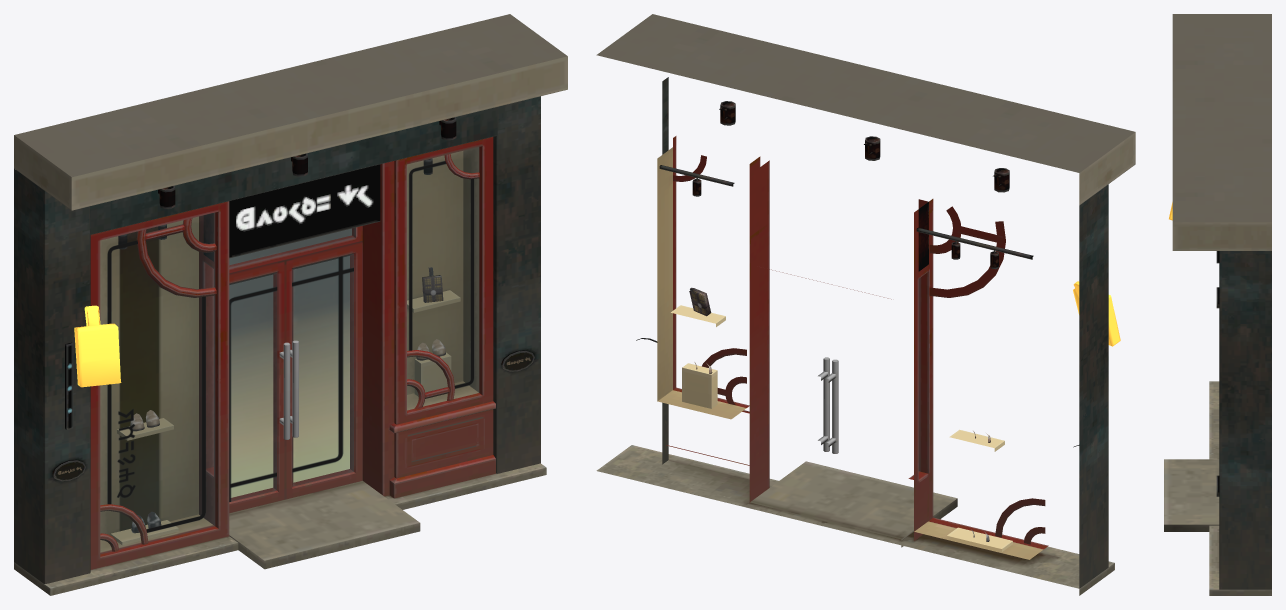
File: t1_b_boutique2_b.glb
The picture shows the model from 3 angles, left to right: view 1: azimuth 30°, elevation 25°; view 2: azimuth 150°, elevation 25°; view 3: azimuth 270°, elevation 25°; orthographic projection. The views are drawn at different scales.
Visible parts, largest first — view 1: nomerge_t1_b_boutique2_b_mesh; view 2: nomerge_t1_b_boutique2_b_mesh; view 3: nomerge_t1_b_boutique2_b_mesh.
Boxes of the visible parts, x1,y1,x2,y2 form: nomerge_t1_b_boutique2_b_mesh: (14,14,567,595); nomerge_t1_b_boutique2_b_mesh: (596,14,1135,595); nomerge_t1_b_boutique2_b_mesh: (1164,14,1271,595).
Bounding box in the file's own units: 5.5 × 4.6 × 1.2.
4 materials, 3 textured.
